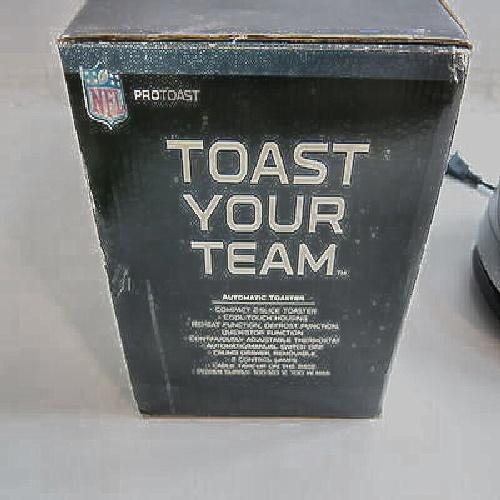toaster: (69, 20, 439, 427)
